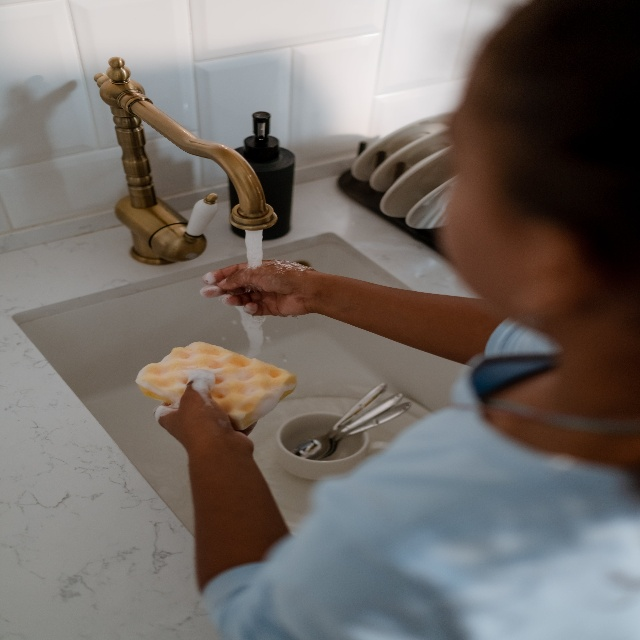Sin_guantes: (152, 367, 258, 467), (198, 250, 313, 319)
